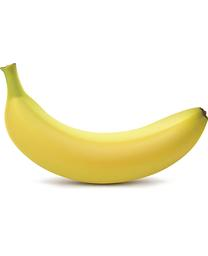banana: (1, 63, 206, 186)
